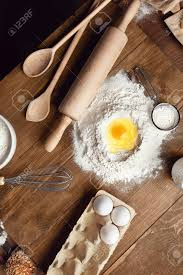Eggs: (86, 195, 140, 248)
